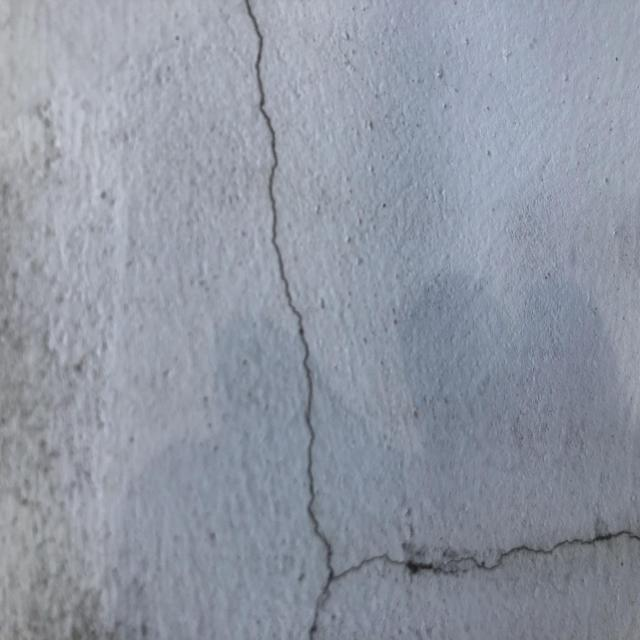SurfaceCrack: (208, 0, 382, 640)
